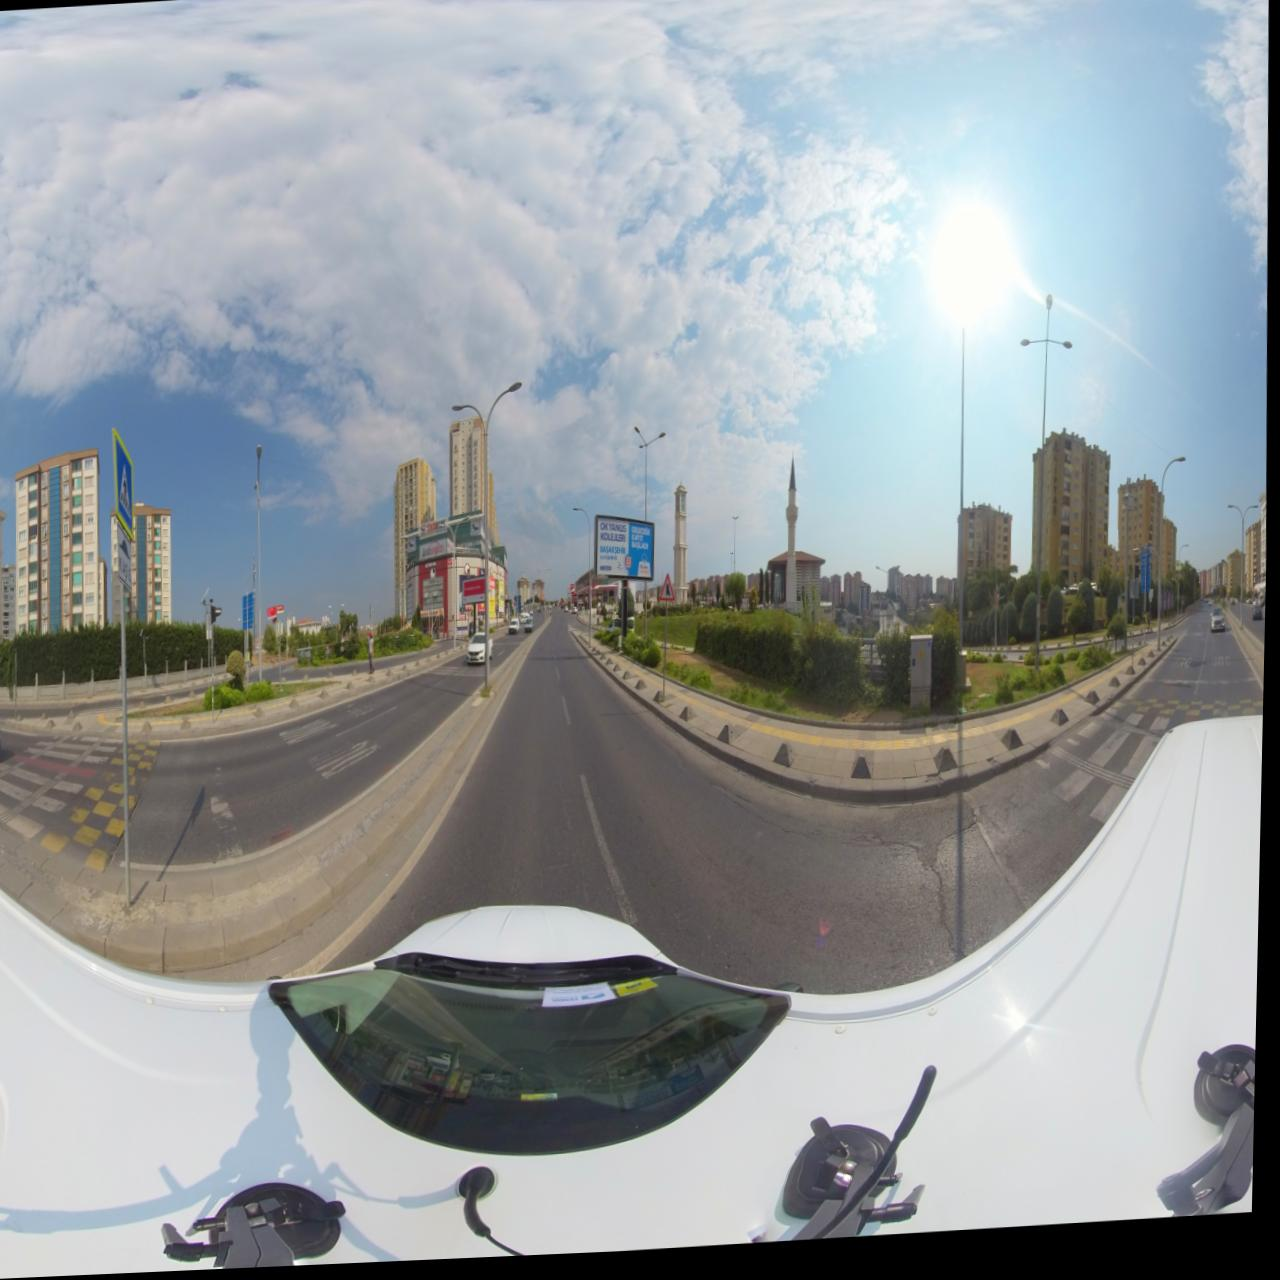SignStore: (422, 542, 450, 565), (427, 565, 441, 573)
